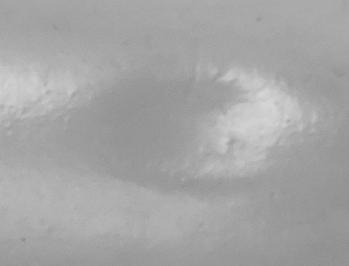dent: (1, 0, 349, 266)
